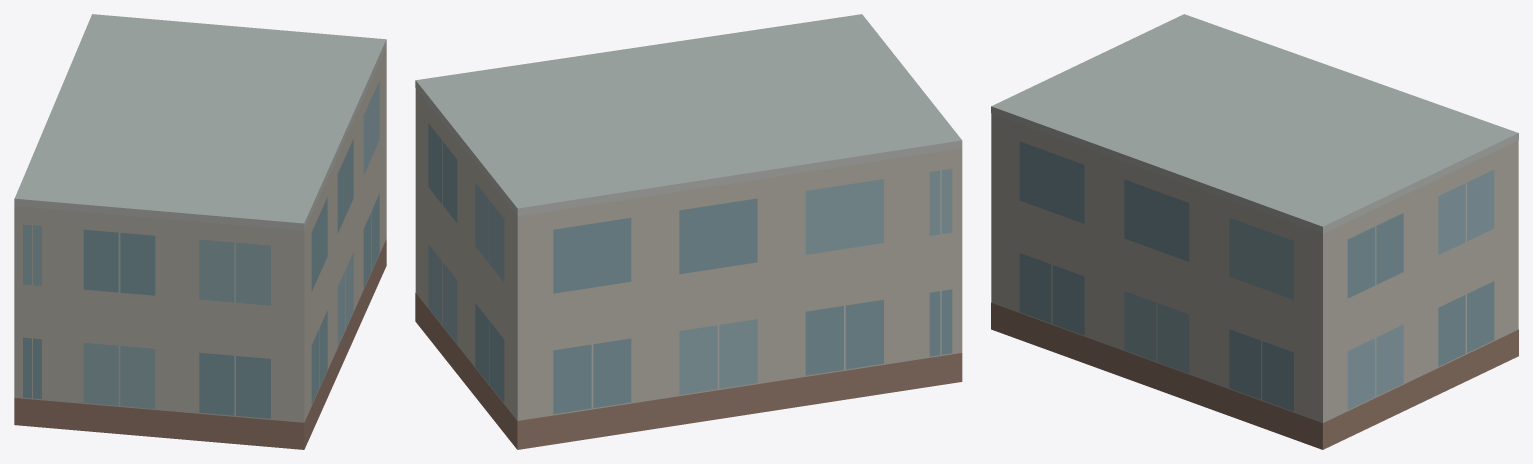
File: survey-upis-33009876.glb
3 views of the same model, side by side, from view 1: azimuth 30°, elevation 25°; view 2: azimuth 150°, elevation 25°; view 3: azimuth 270°, elevation 25° (orthographic). The views are drawn at different scales.
Visible parts, largest first — view 1: survey-upis-33009876.tmp; view 2: survey-upis-33009876.tmp; view 3: survey-upis-33009876.tmp.
Boxes of the visible parts, x1,y1,x2,y2 form: survey-upis-33009876.tmp: [14, 14, 386, 449]; survey-upis-33009876.tmp: [415, 14, 962, 449]; survey-upis-33009876.tmp: [991, 14, 1518, 449].
Bounding box in the file's own units: 15.55 × 7.6 × 16.3.
